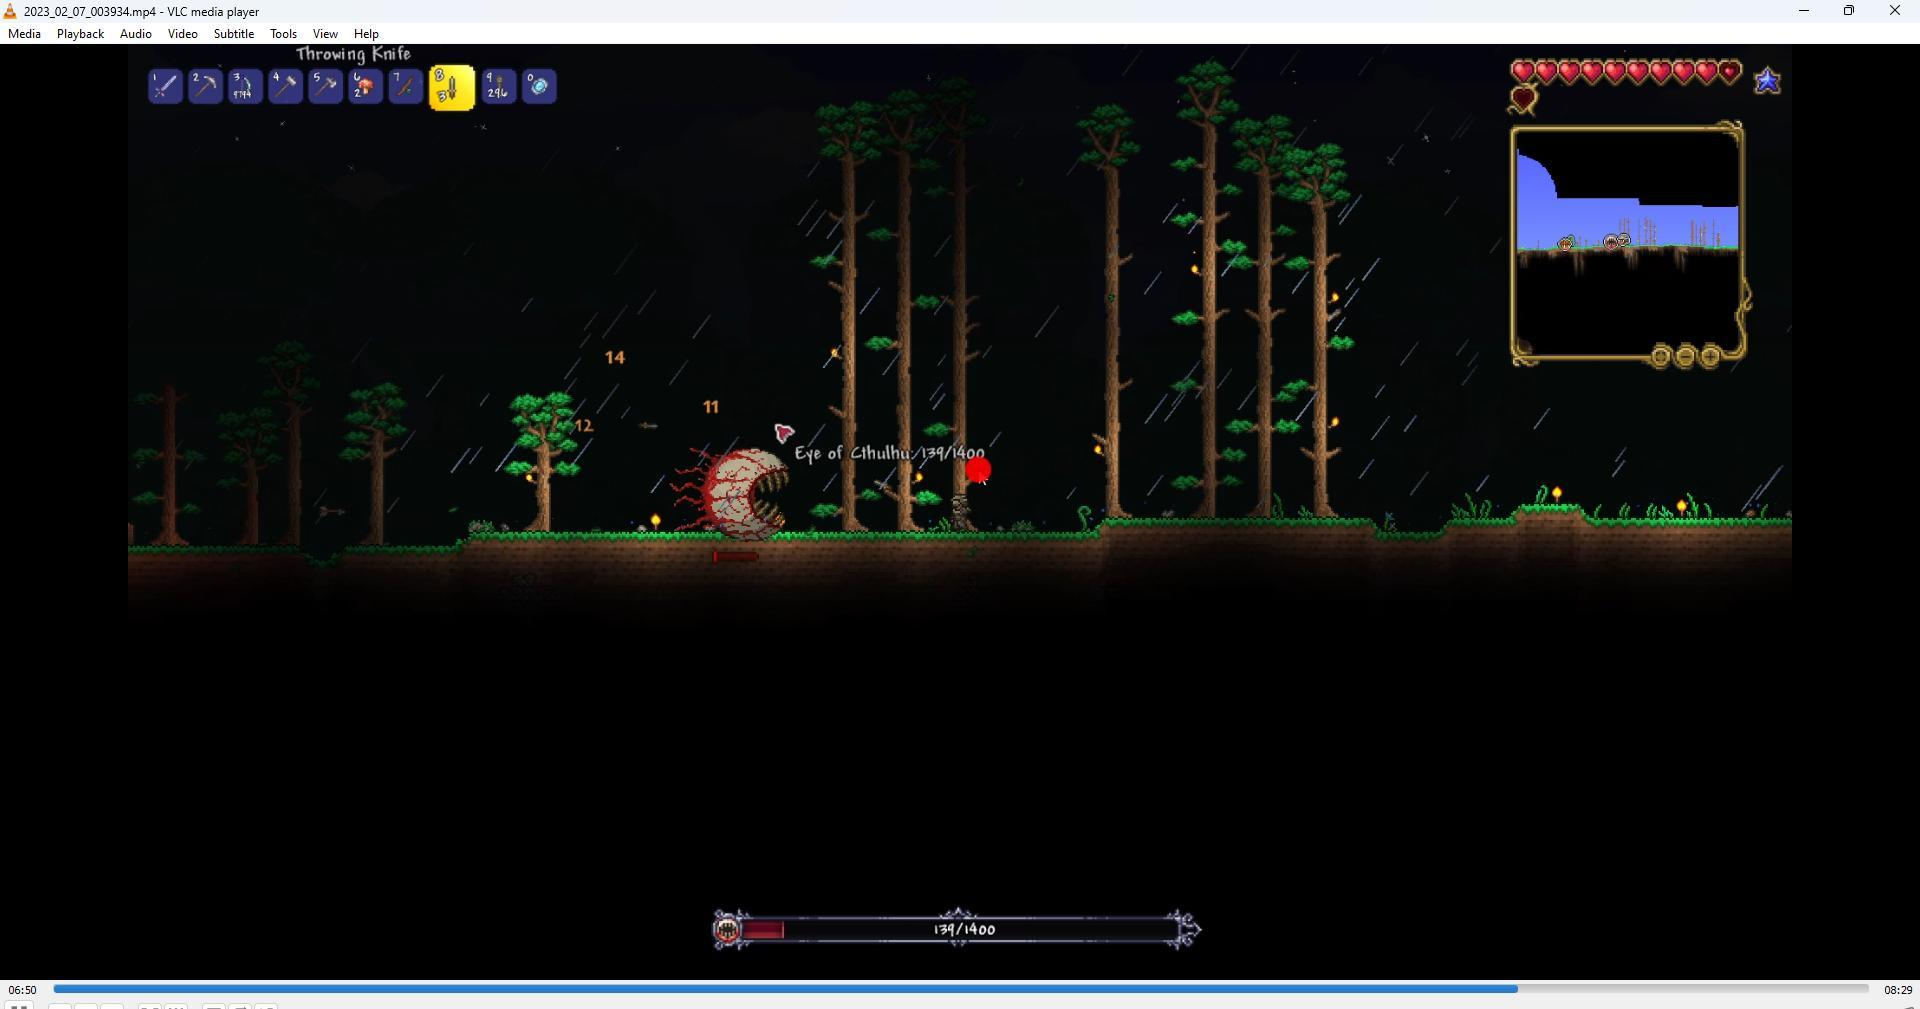dirt: (456, 524, 1106, 572), (1427, 505, 1792, 537), (1097, 511, 1384, 539)
